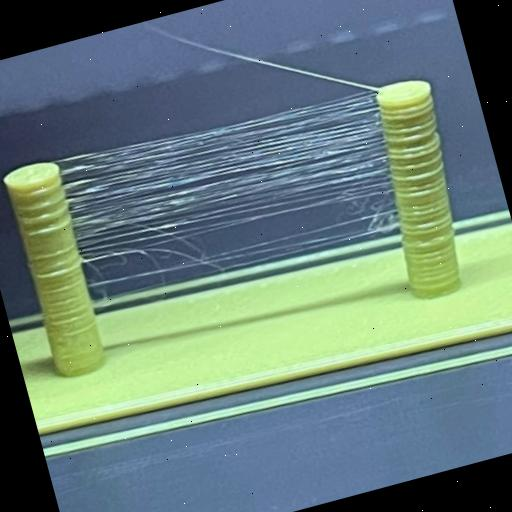stringing: (54, 81, 416, 300)
